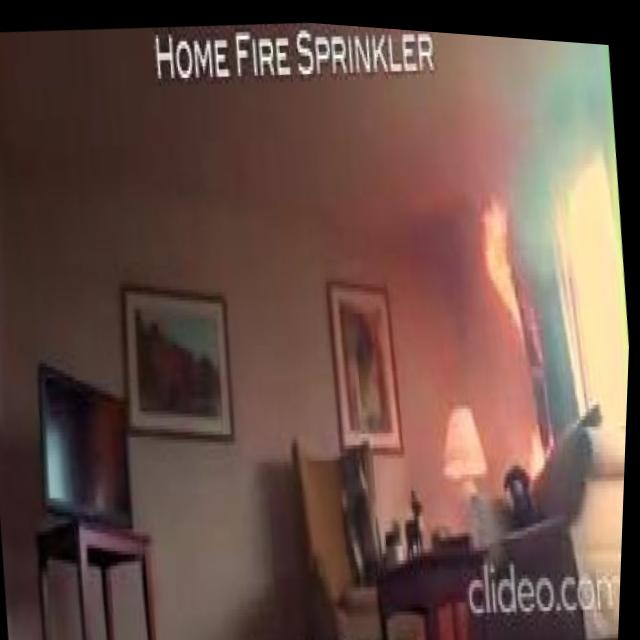fire: (472, 188, 530, 326), (510, 405, 561, 474)
